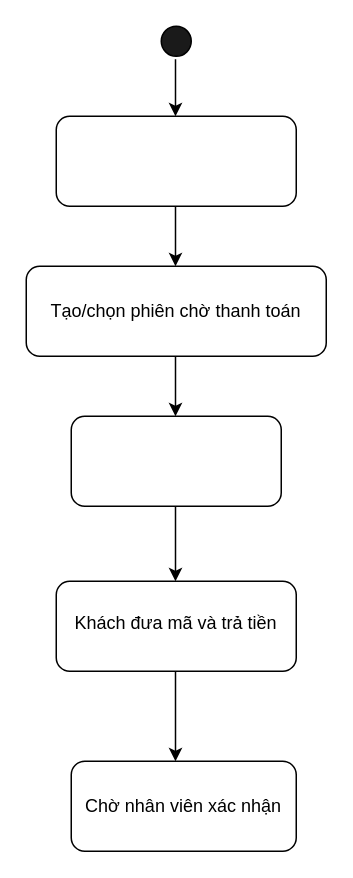
This 353x878 diagram has some shape labels left out. The shapes that lost their labels are listed below. From the top down, each one's box as (x1, y1, x2, y2) in pixels, then its label:
(55, 115, 296, 206): Chọn thanh toán tiền mặt
(70, 415, 281, 506): Tạo và hiển thị mã ngắn
